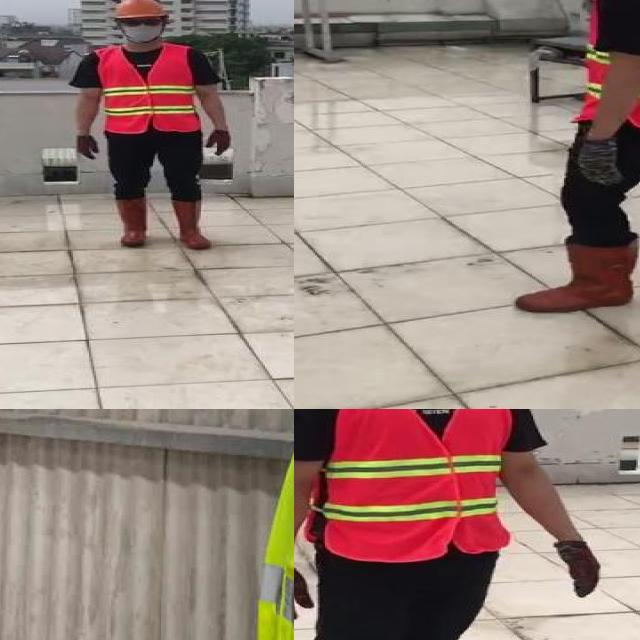boots: (512, 238, 640, 314), (172, 197, 212, 249), (112, 197, 150, 247)
face_mask: (119, 16, 164, 42)
glasses: (118, 16, 161, 29)
hand_glove: (552, 541, 600, 600), (580, 140, 624, 185), (294, 570, 316, 619), (73, 134, 100, 160), (208, 129, 231, 155)
head_helmet: (113, 0, 167, 20)
person: (294, 409, 614, 640), (494, 0, 640, 327), (64, 0, 236, 253)
vest: (310, 409, 513, 560), (100, 45, 199, 134), (580, 0, 640, 133)
